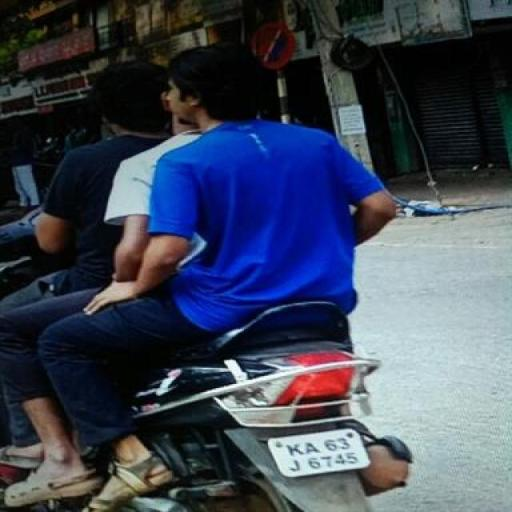tripple riding: (0, 42, 404, 365)
